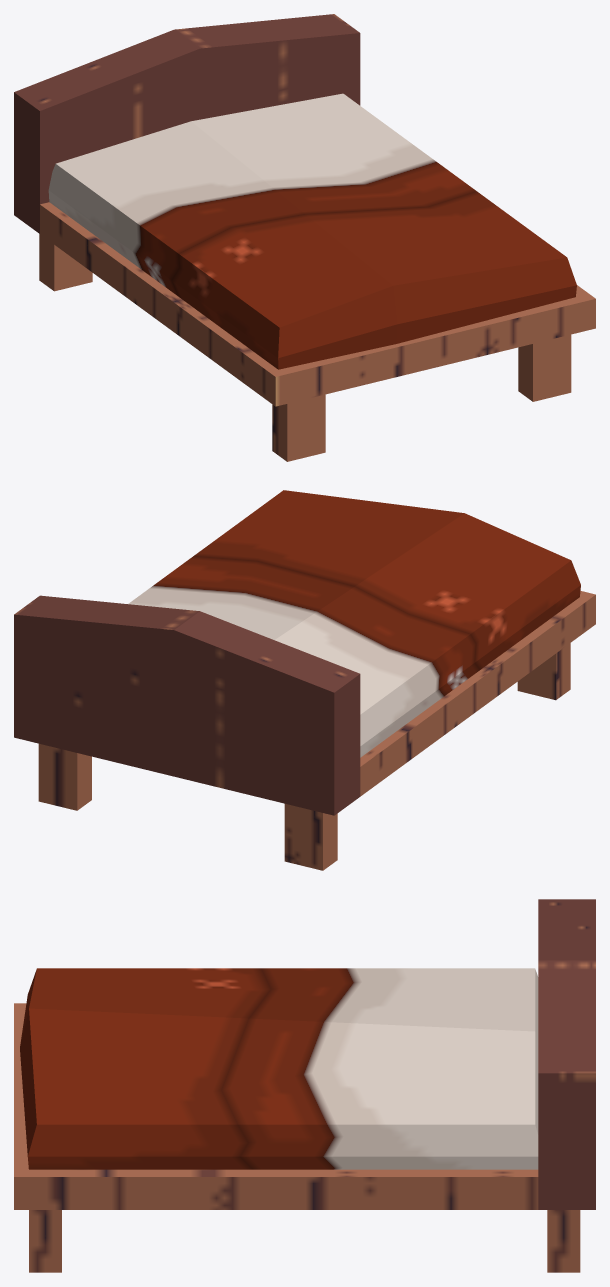
File: CamaLaranja.fbx
3 renders of one model, top to bottom at view 1: azimuth 30°, elevation 25°; view 2: azimuth 150°, elevation 25°; view 3: azimuth 270°, elevation 25°, orthographic. The views are drawn at different scales.
Visible parts, largest first — view 1: CamaLaranja; view 2: CamaLaranja; view 3: CamaLaranja.
Part boxes in pixels (x1=…): CamaLaranja: x1=14, y1=14, x2=595, y2=461; CamaLaranja: x1=14, y1=490, x2=595, y2=870; CamaLaranja: x1=14, y1=899, x2=595, y2=1272.
Size of the model in its own units: 180 by 255 by 114.
